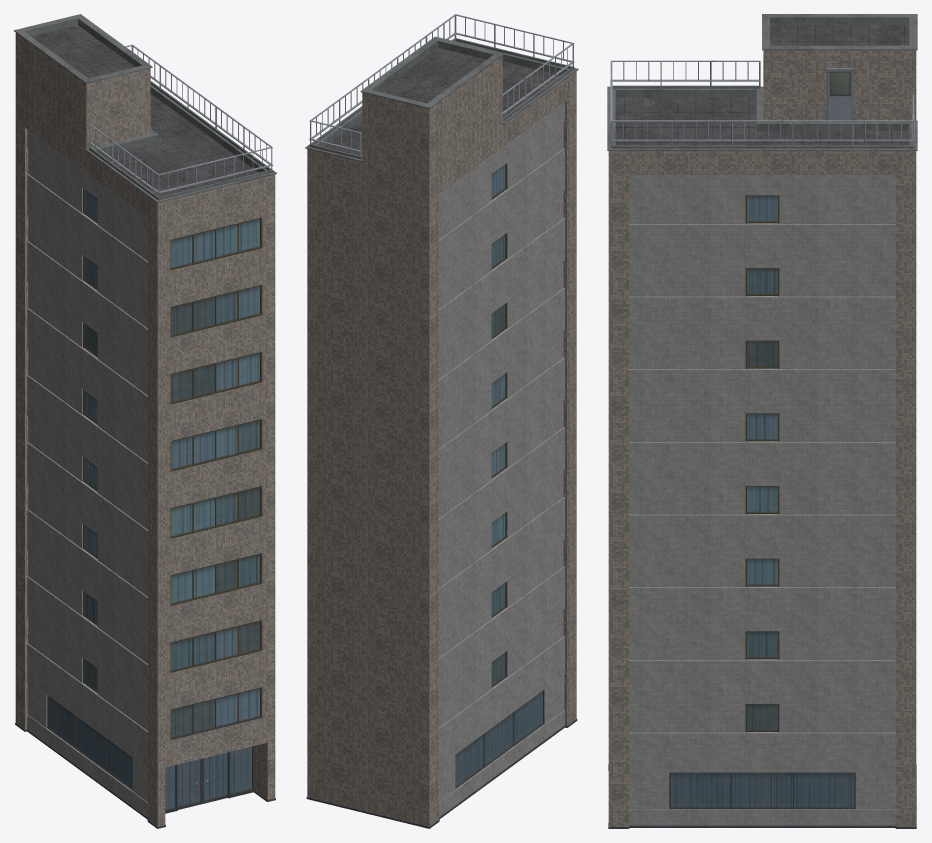
Rendered from jctBld12_6A.fbx.
3 views of the same model, side by side, from view 1: azimuth 30°, elevation 25°; view 2: azimuth 150°, elevation 25°; view 3: azimuth 270°, elevation 25° (orthographic). The views are drawn at different scales.
Parts seen in each view (by area): view 1: jctBld12_6A_LOD0; view 2: jctBld12_6A_LOD0; view 3: jctBld12_6A_LOD0.
Part boxes in pixels (x1,y1,x2,y2): jctBld12_6A_LOD0: (14,14,276,828); jctBld12_6A_LOD0: (305,14,578,828); jctBld12_6A_LOD0: (607,14,917,828).
Size of the model in its own units: 560 by 3105 by 1160.
